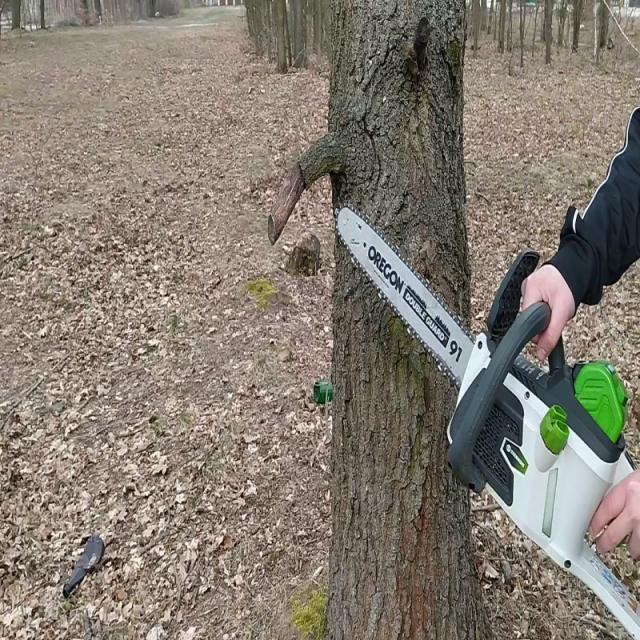Chainsaw: (328, 201, 640, 640)
